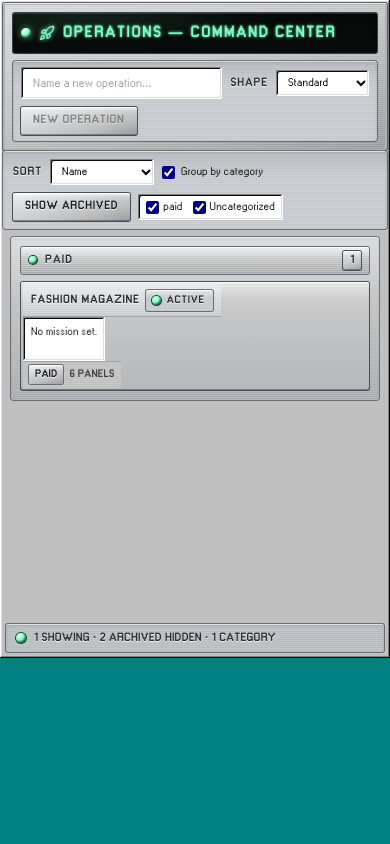
Test case: OperationsView › hides completed and inactive operations until Show archived
The width and height of the screenshot is (390, 844).
expect the button "Fashion magazine active No mission set. paid 6 panels" is shown: met, box x1=21 y1=282 x2=369 y2=390
expect the button "Old catalog" is not shown: met
Click the button "Show archived" at point(72, 207), box x1=13 y1=193 x2=130 y2=221
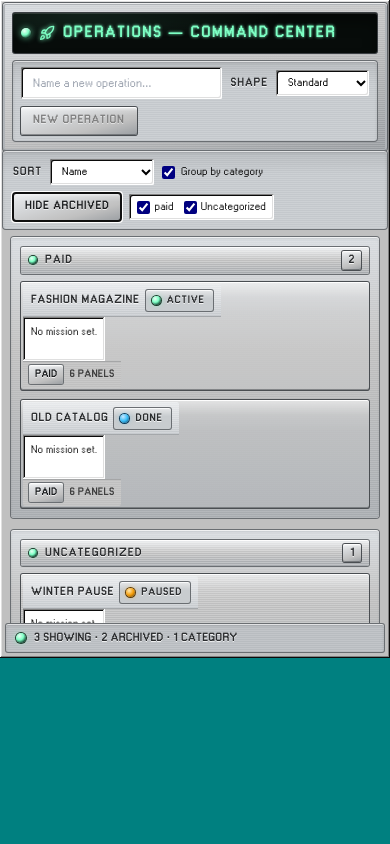
expect the button "Old catalog done No mission set. paid 6 panels" is shown: met, box x1=21 y1=400 x2=369 y2=508
expect the button "Hide archived" is shown: met, box x1=13 y1=193 x2=122 y2=221
